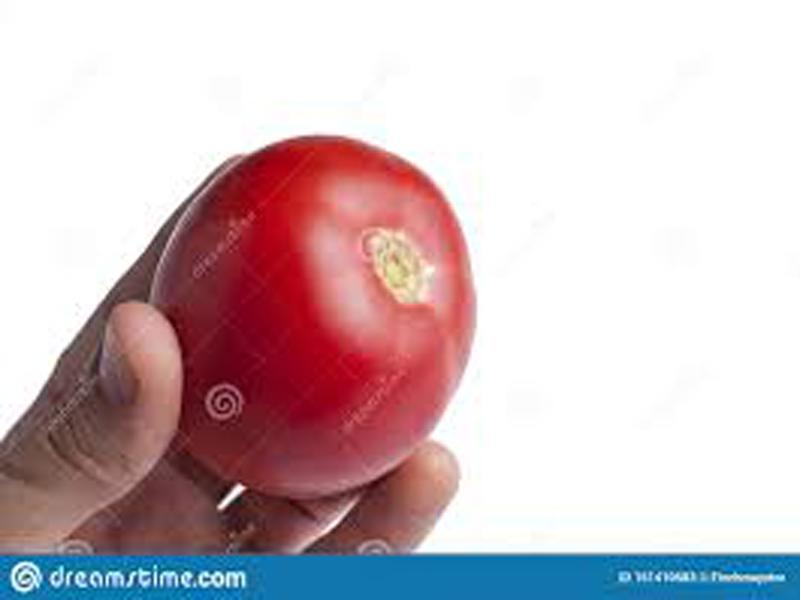Tomato: (148, 136, 474, 496)
